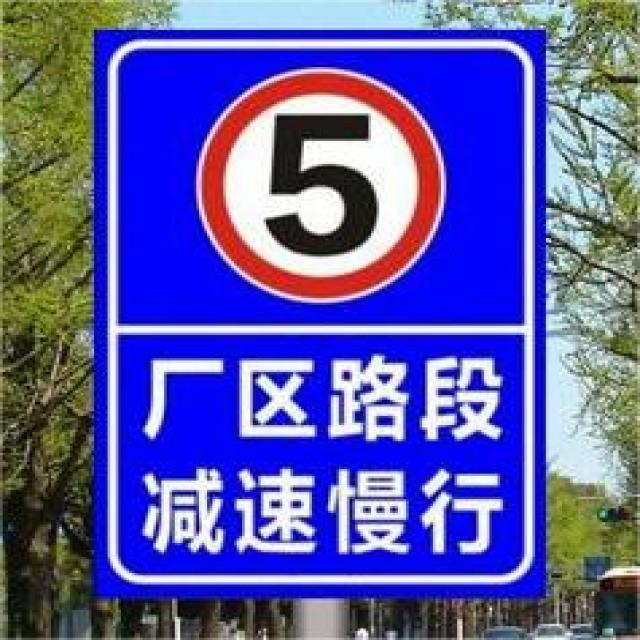speed limit 10: (194, 66, 447, 305)
